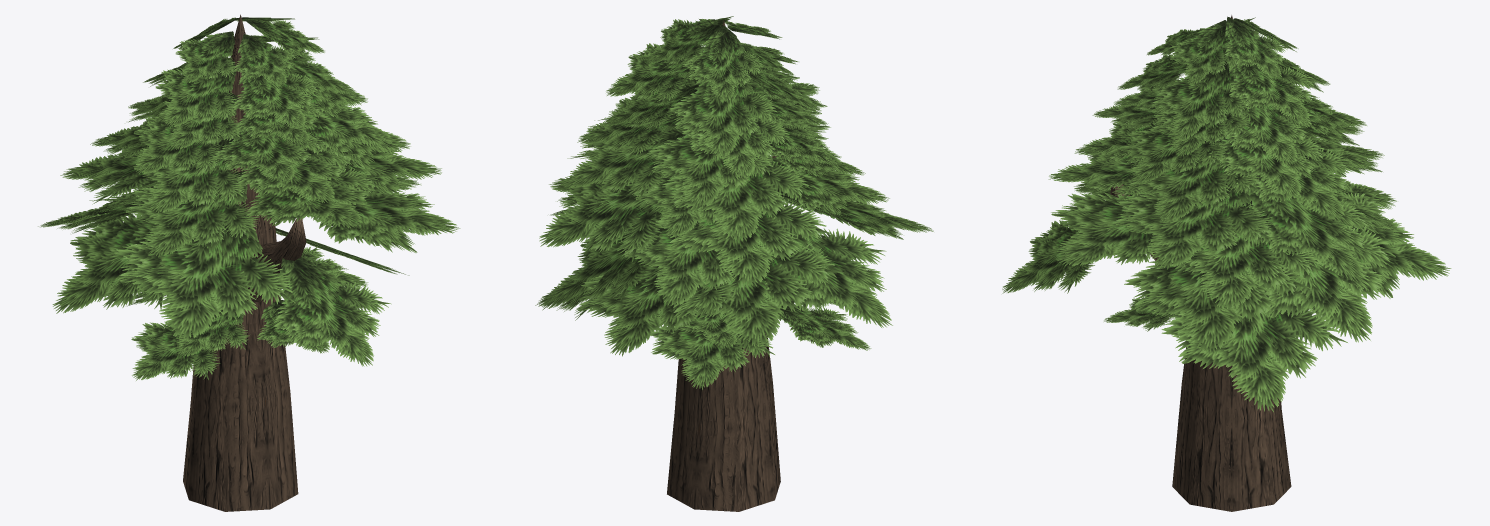
File: Tree_2.obj
The picture shows the model from 3 angles, left to right: view 1: azimuth 30°, elevation 25°; view 2: azimuth 150°, elevation 25°; view 3: azimuth 270°, elevation 25°; orthographic projection.
Bounding box in the file's own units: 15.46 × 17.3 × 16.3.
